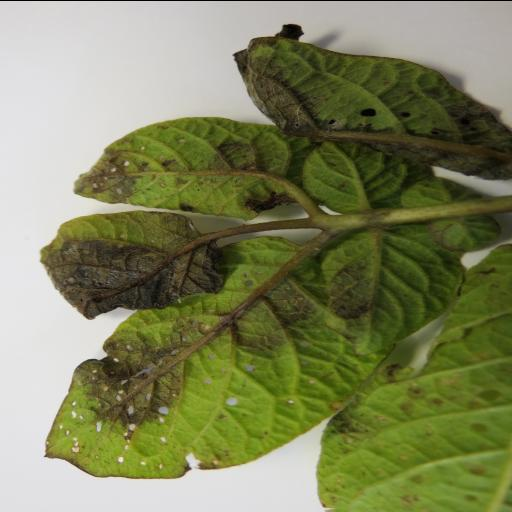Late Blight: (36, 210, 478, 480), (233, 19, 512, 173), (66, 116, 320, 222), (36, 208, 232, 316)
